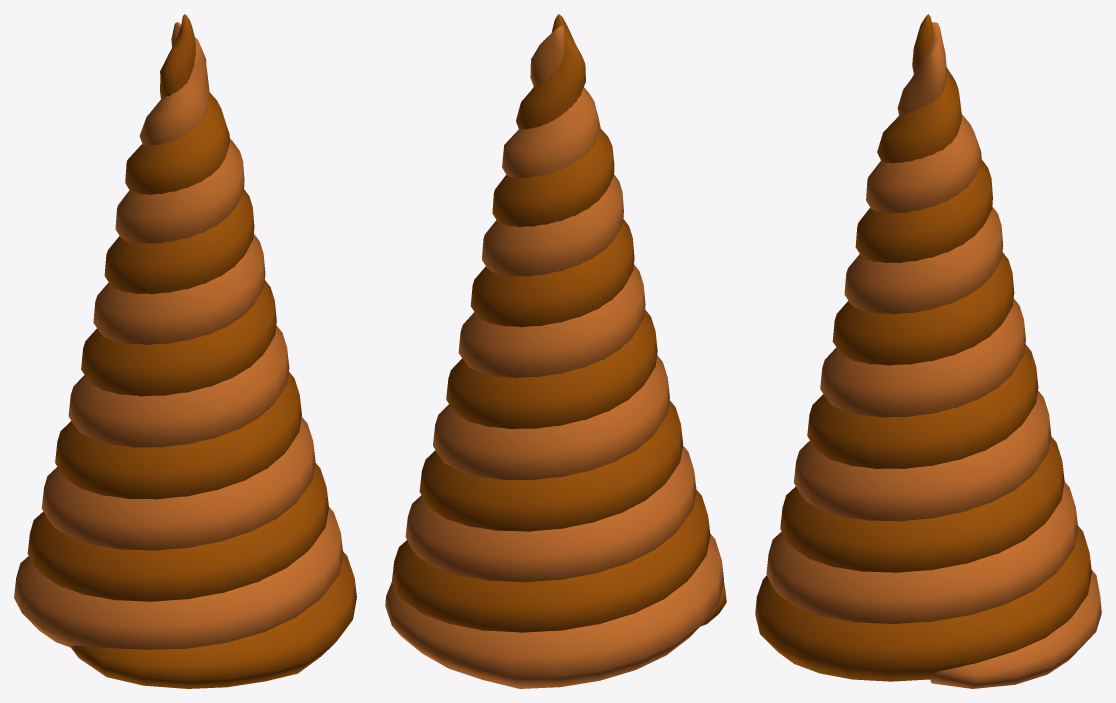
File: caramel_cone_002.glb
The picture shows the model from 3 angles, left to right: view 1: azimuth 30°, elevation 25°; view 2: azimuth 150°, elevation 25°; view 3: azimuth 270°, elevation 25°; orthographic projection.
Parts seen in each view (by area): view 1: caramel_cone_002; view 2: caramel_cone_002; view 3: caramel_cone_002.
Part boxes in pixels (x1,y1,x2,y2): caramel_cone_002: (14,14,356,688); caramel_cone_002: (385,14,726,688); caramel_cone_002: (755,14,1101,688).
Bounding box in the file's own units: 6.68 × 13.46 × 6.83.
1 material, 1 textured.
